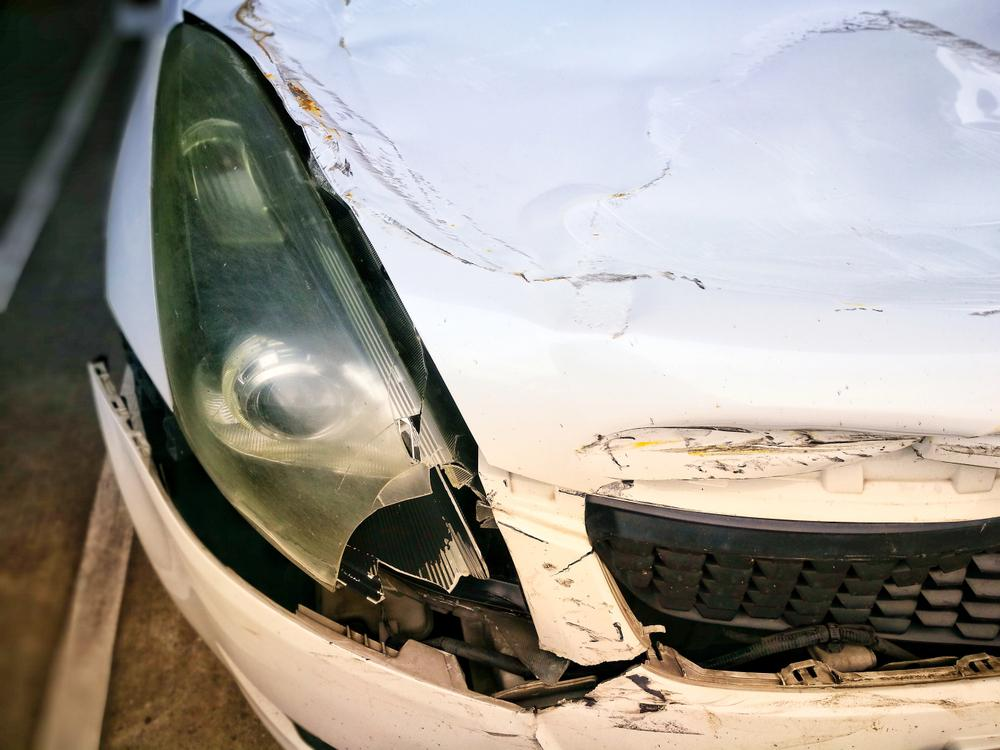crack: (542, 647, 651, 703), (551, 548, 595, 577)
dent: (522, 24, 1000, 309)
lamp broken: (152, 15, 533, 629)
scratch: (232, 0, 579, 288), (578, 419, 1000, 476), (562, 670, 721, 736), (542, 562, 632, 661)
